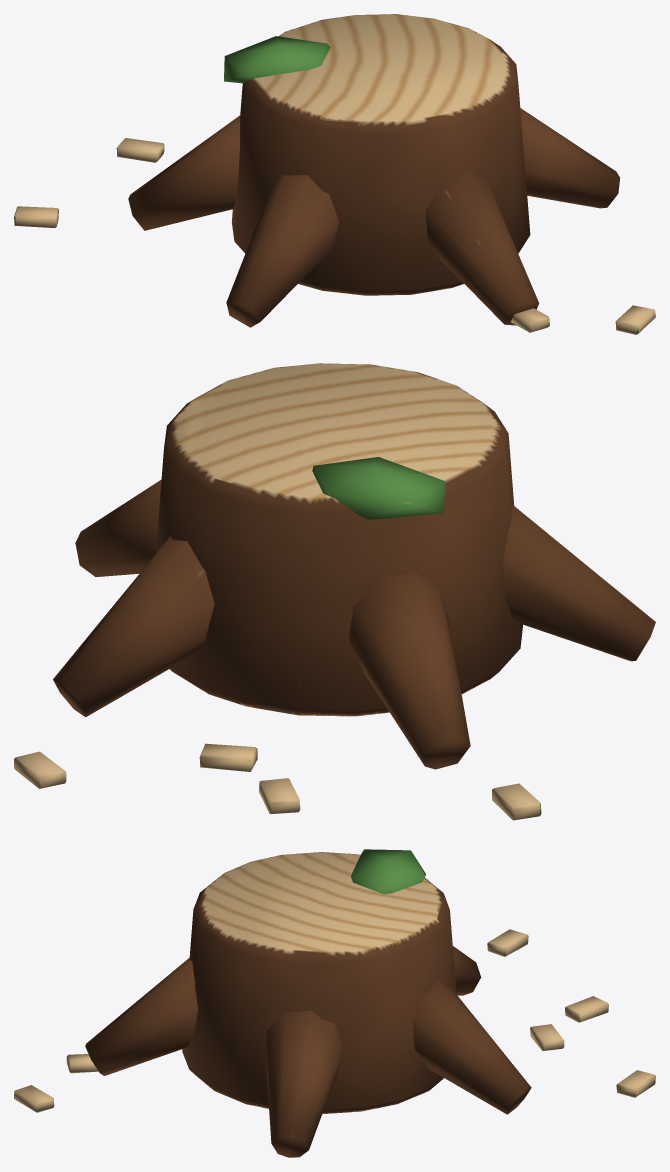
The model's file is season_stump.glb.
3 renders of one model, top to bottom at view 1: azimuth 30°, elevation 25°; view 2: azimuth 150°, elevation 25°; view 3: azimuth 270°, elevation 25°, orthographic. The views are drawn at different scales.
Parts seen in each view (by area): view 1: chip; view 2: chip; view 3: chip.
Part boxes in pixels (box(x1,y1,x2,y2)): chip: box(14, 14, 655, 334); chip: box(14, 363, 655, 820); chip: box(14, 849, 655, 1157).
Bounding box in the file's own units: 1.25 × 0.4681 × 1.55.
Materials: 1 (1 with a texture image).
